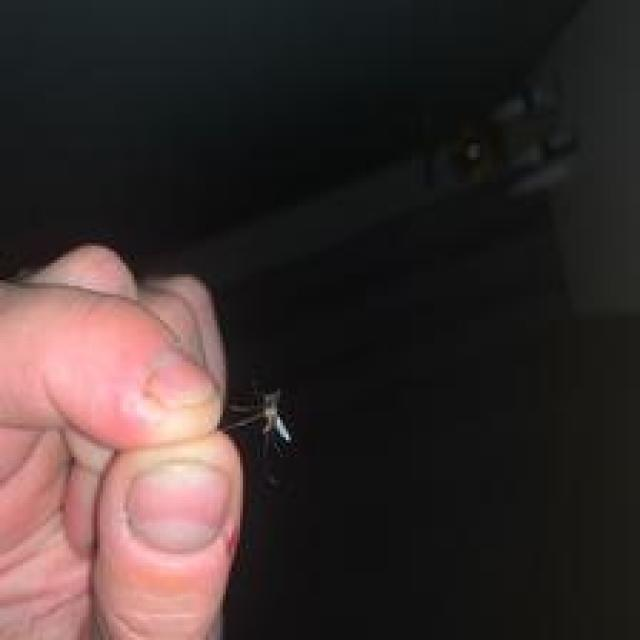Culex: (221, 382, 296, 458)
